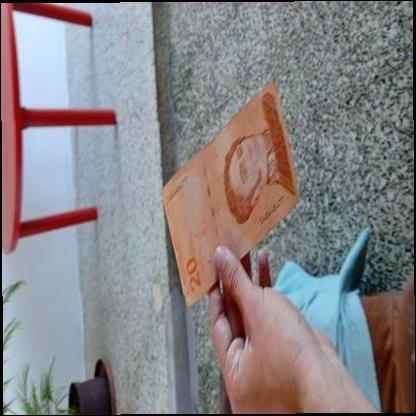vef_front: (158, 78, 300, 308)
